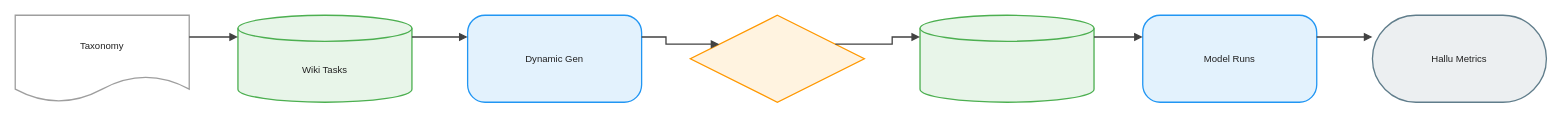
The diagram is 1563 pixels wide and 118 high, and some of its shapes have lost their labels. Here are the shapes that lost their labels. From the top down, the centre of each, then its label:
the point at 777,58: Refusal Task
the point at 1006,58: Intrinsic Set
